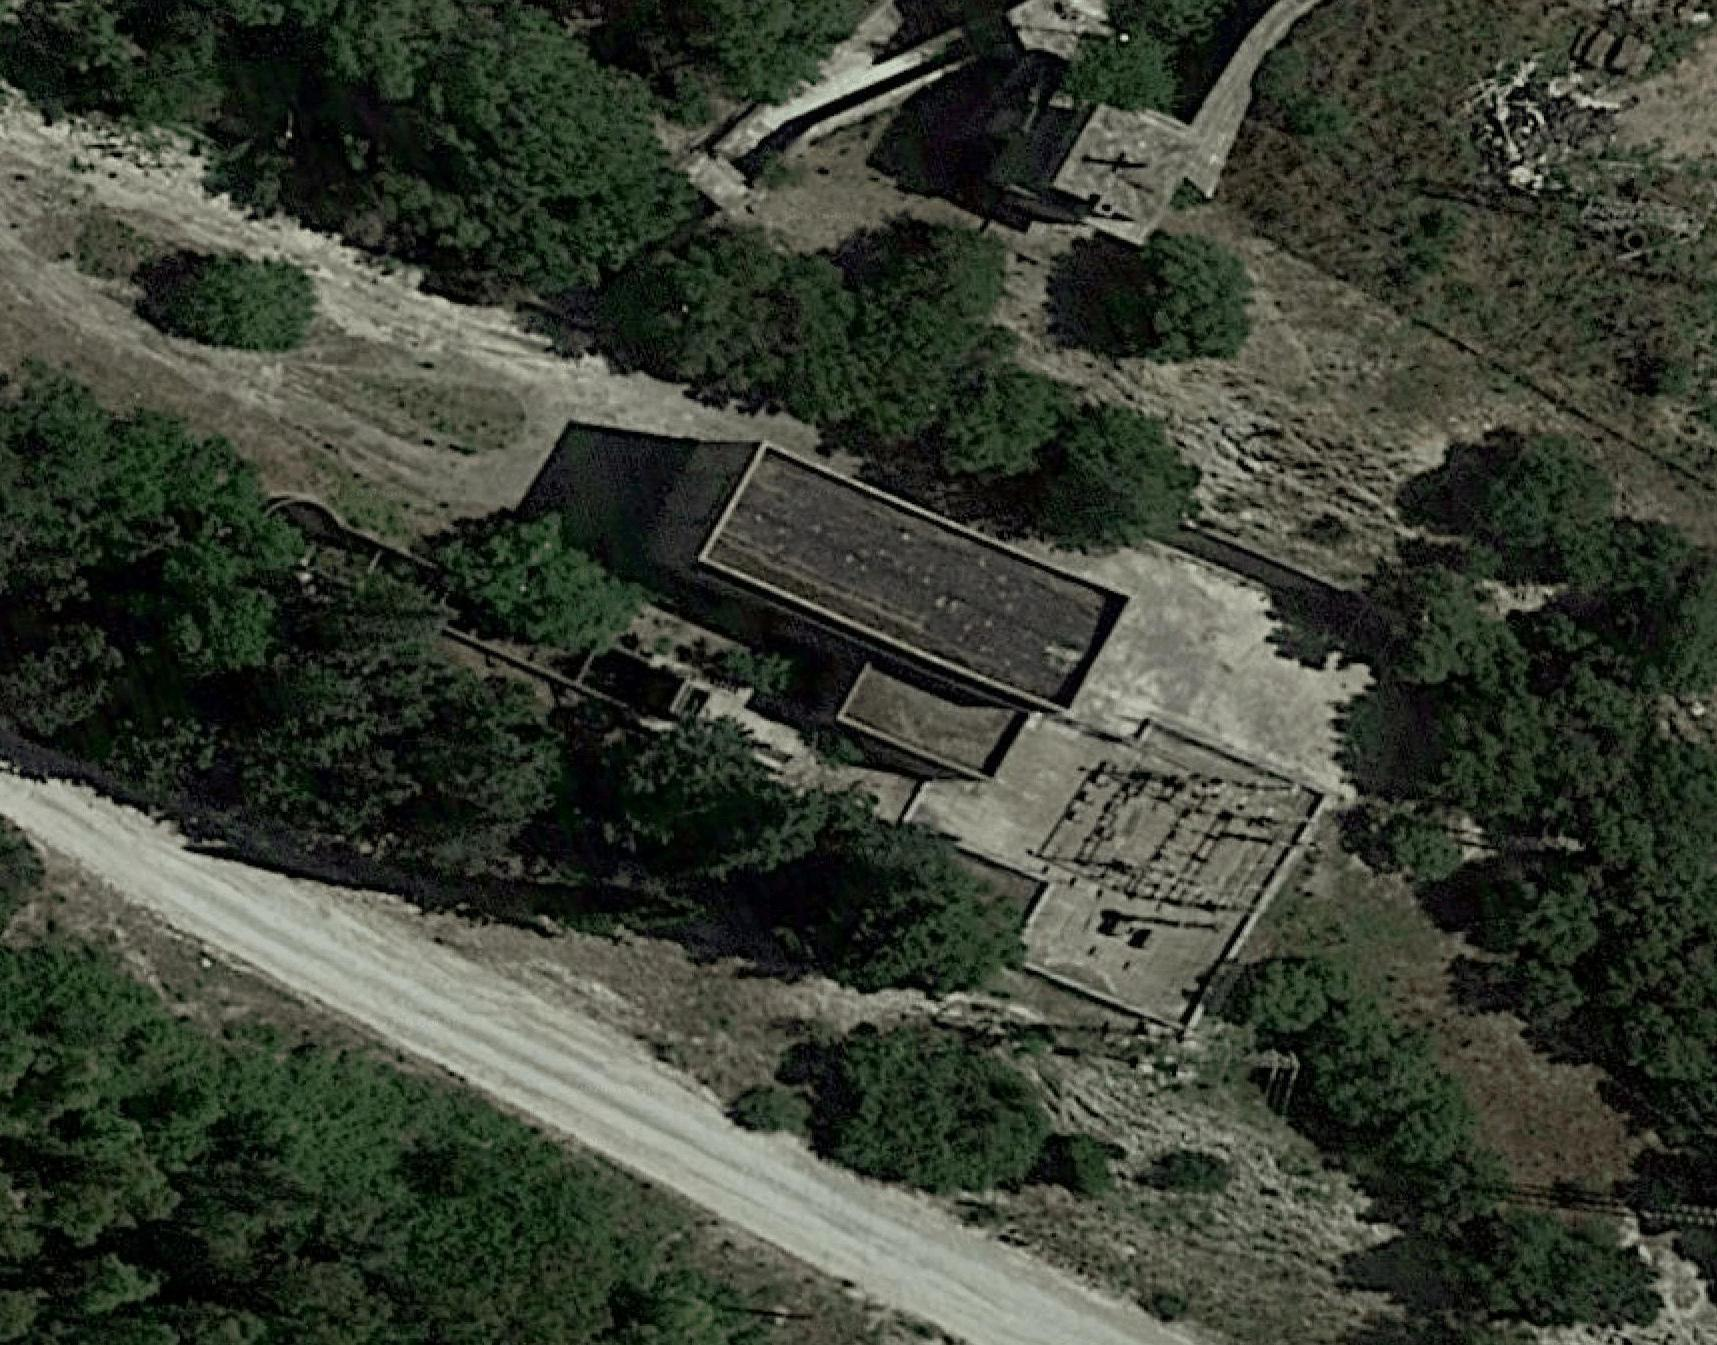substation: (1017, 733, 1316, 971)
